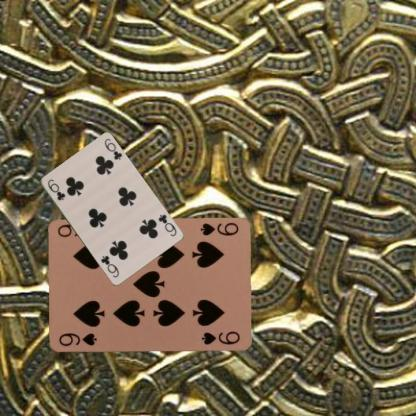6c: (44, 176, 66, 202), (156, 212, 178, 238)
9s: (56, 330, 98, 348), (198, 220, 240, 238)
